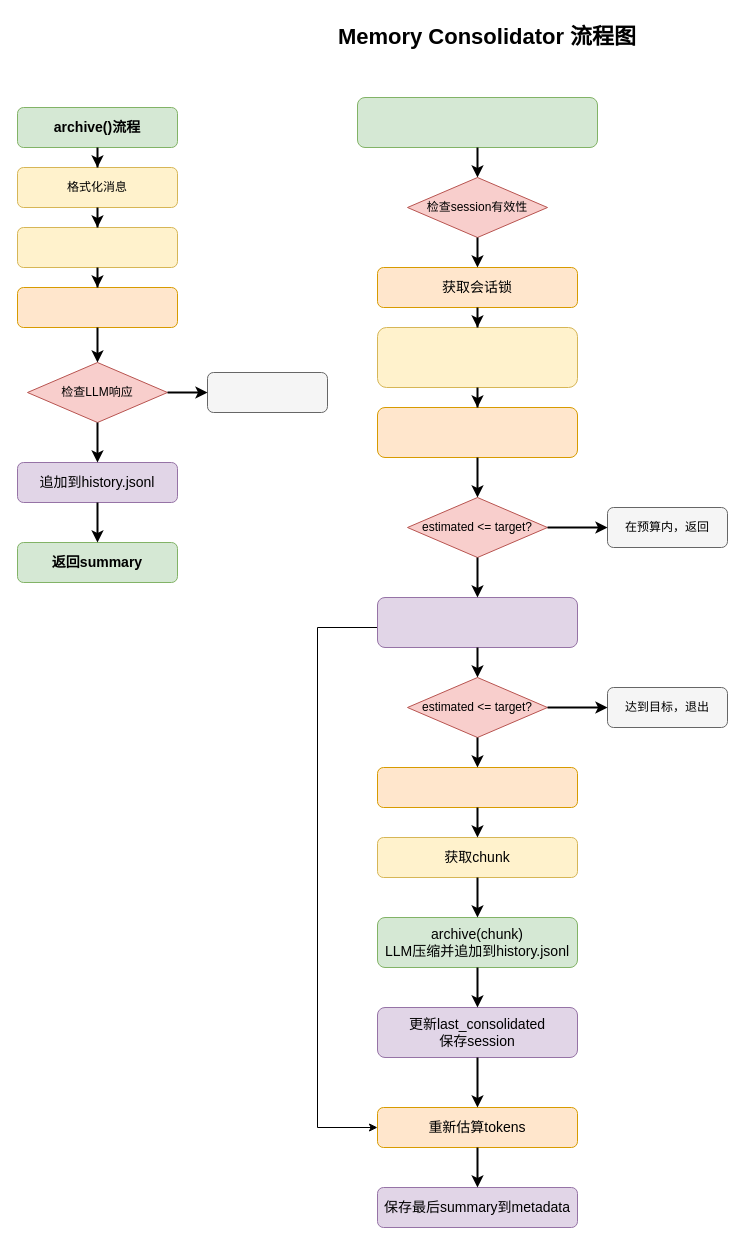
Some shapes in this 745 by 1245 pixel diagram are drawn without their labels. The centre of each missing label's shape, as x and y in pixels:
"LLM压缩调用" belongs at (97,307).
"maybe_consolidate_by_tokens()" belongs at (477,122).
"估算当前session tokens 使用tiktoken或LLM" belongs at (477,432).
"压缩循环 (最多5次)" belongs at (477,622).
"异常: raw_archive()" belongs at (267,392).
"截断到token预算" belongs at (97,247).
"计算可用预算 剩余窗口=上下文窗口-模型最大回复长度-预设安全值 预算=剩余窗口*压缩率" belongs at (477,357).
"选择压缩边界" belongs at (477,787).
